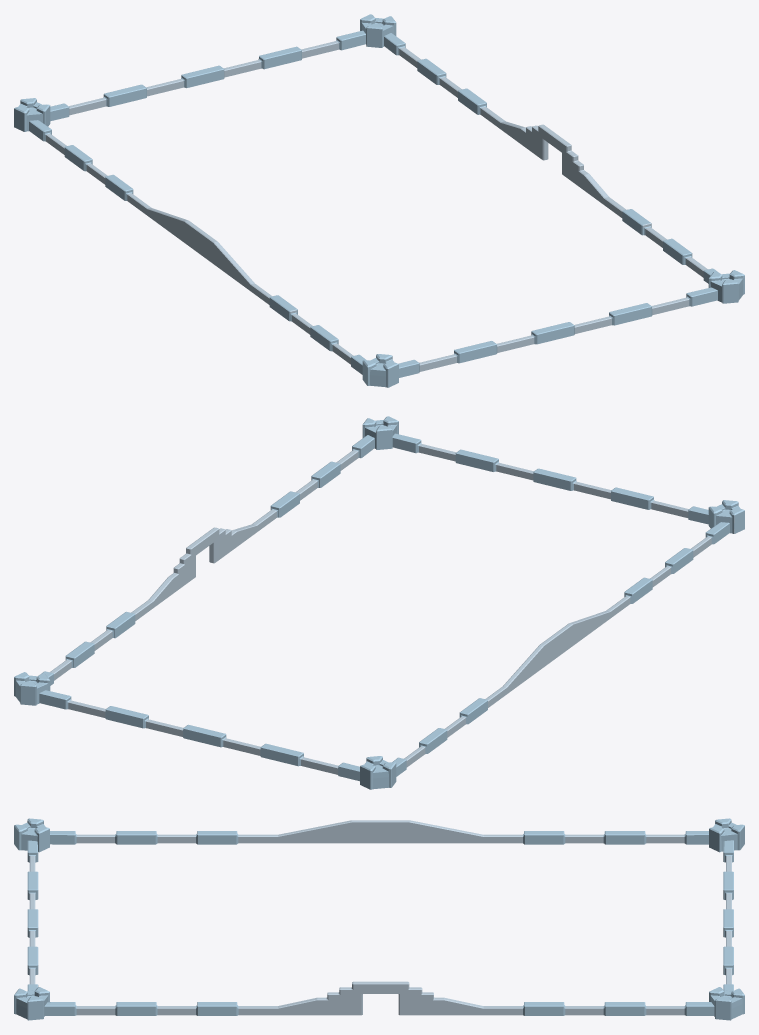
Rendered from fortress.fbx.
The picture shows the model from 3 angles, top to bottom: view 1: azimuth 30°, elevation 25°; view 2: azimuth 150°, elevation 25°; view 3: azimuth 270°, elevation 25°; orthographic projection.
Visible parts, largest first — view 1: fortress; view 2: fortress; view 3: fortress.
Boxes of the visible parts, x1=… form: fortress: x1=14, y1=14, x2=744, y2=387; fortress: x1=14, y1=416, x2=744, y2=789; fortress: x1=14, y1=818, x2=744, y2=1020.
Bounding box in the file's own units: 13742 × 1117 × 23180.
